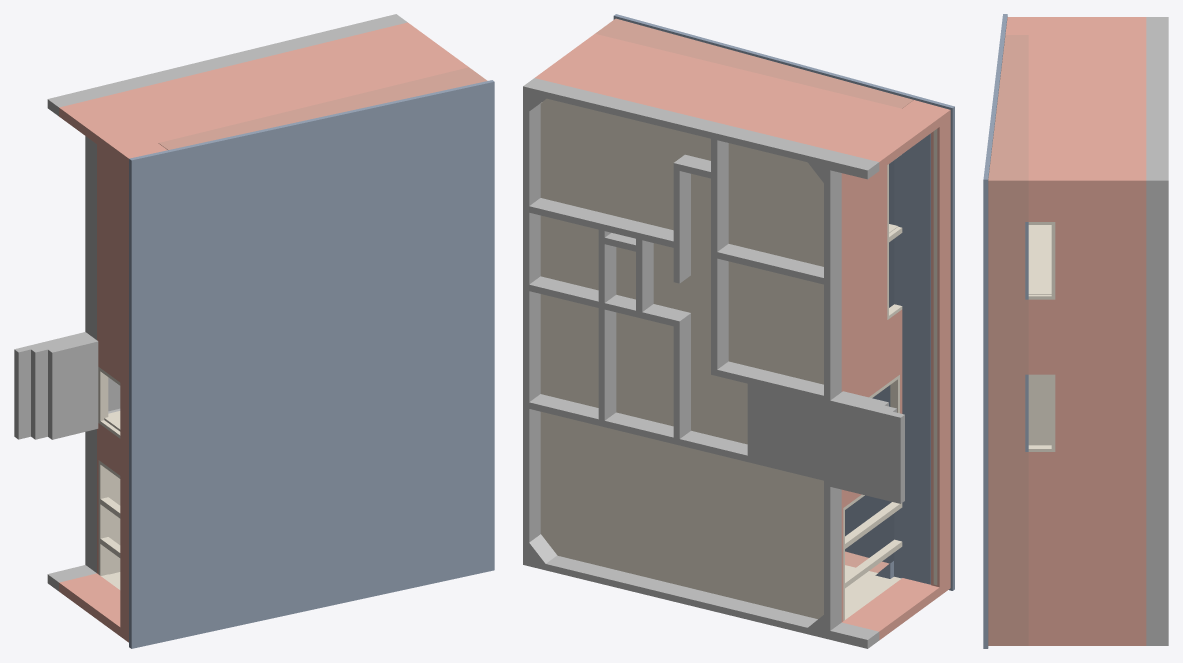
3 views of the same model, side by side, from view 1: azimuth 30°, elevation 25°; view 2: azimuth 150°, elevation 25°; view 3: azimuth 270°, elevation 25° (orthographic). The views are drawn at different scales.
Visible parts, largest first — view 1: roof, exterior1, foundation, roof_ext, floor1; view 2: floor1, foundation, exterior1, roof, roof_ext; view 3: exterior1, roof_ext, foundation, floor1, roof.
Boxes of the visible parts, bbox=[...] form: roof: bbox=[129, 80, 494, 648]; exterior1: bbox=[59, 22, 468, 642]; foundation: bbox=[14, 14, 407, 591]; roof_ext: bbox=[158, 67, 487, 149]; floor1: bbox=[98, 367, 120, 589]; floor1: bbox=[540, 98, 937, 620]; foundation: bbox=[523, 78, 904, 648]; exterior1: bbox=[535, 34, 950, 640]; roof: bbox=[613, 14, 954, 590]; roof_ext: bbox=[595, 18, 913, 572]; exterior1: bbox=[1005, 17, 1146, 645]; roof_ext: bbox=[988, 35, 1028, 645]; foundation: bbox=[1146, 17, 1168, 645]; floor1: bbox=[1028, 222, 1055, 451]; roof: bbox=[983, 14, 1028, 648].
Bounding box in the file's own units: 184 × 224 × 80.03.
